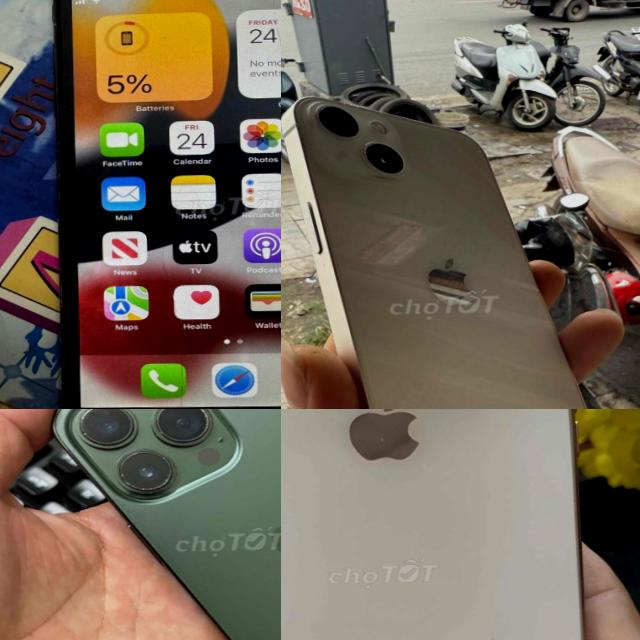physical_damage: (119, 209, 242, 409), (206, 0, 281, 58)
